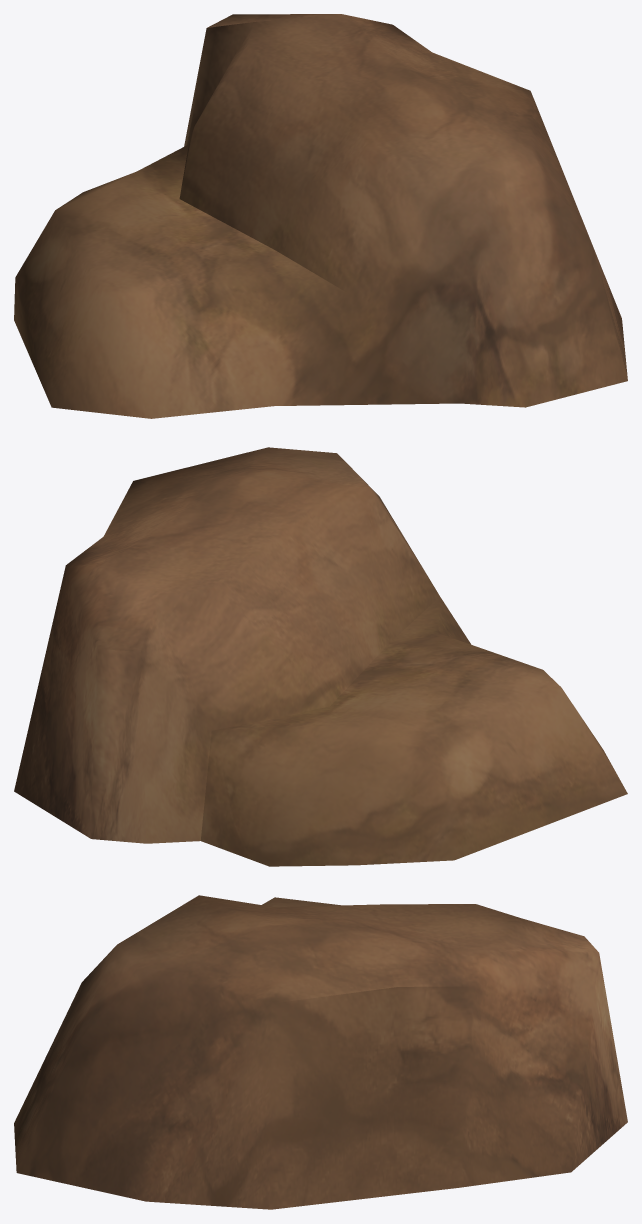
The model's file is handan_field_d_y01h.fbx.
3 views of the same model, one above another, from view 1: azimuth 30°, elevation 25°; view 2: azimuth 150°, elevation 25°; view 3: azimuth 270°, elevation 25° (orthographic). The views are drawn at different scales.
Visible parts, largest first — view 1: handan_field_d_y01h; view 2: handan_field_d_y01h; view 3: handan_field_d_y01h.
Boxes of the visible parts, left/top/right/bottom form: handan_field_d_y01h: left=14, top=14, right=627, bottom=418; handan_field_d_y01h: left=14, top=447, right=627, bottom=866; handan_field_d_y01h: left=14, top=895, right=627, bottom=1209.
Bounding box in the file's own units: 217 × 91.86 × 222.
